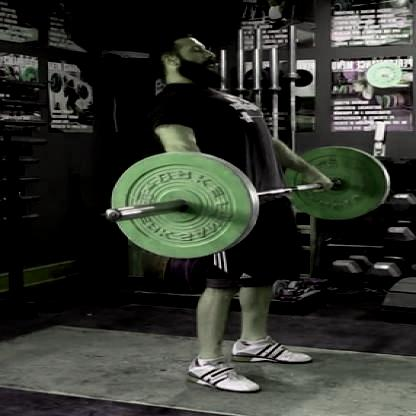Barbell: (100, 206, 122, 224)
